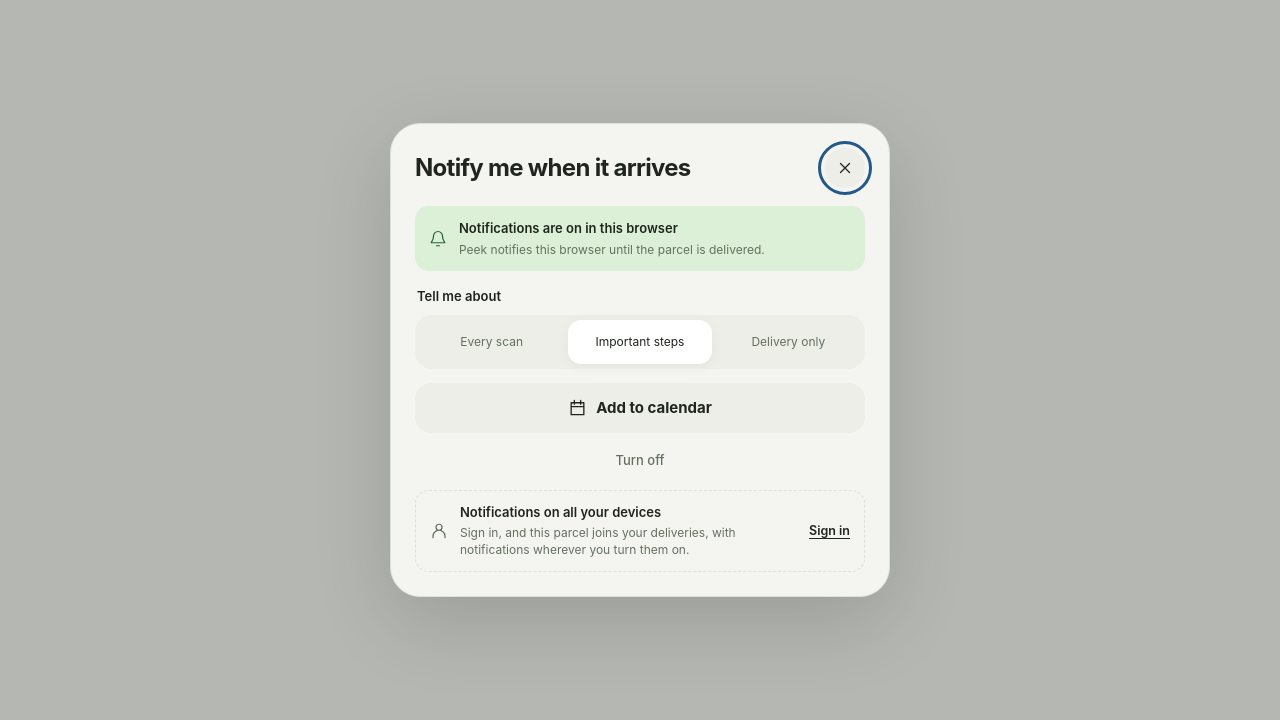
the Notify me sheet › once on, changes what it announces at once, and turns off
Expected: the text "Notifications are on in this browser" is shown, [459, 220, 678, 236]
Click the button "Every scan": (492, 342) [420, 320, 563, 364]
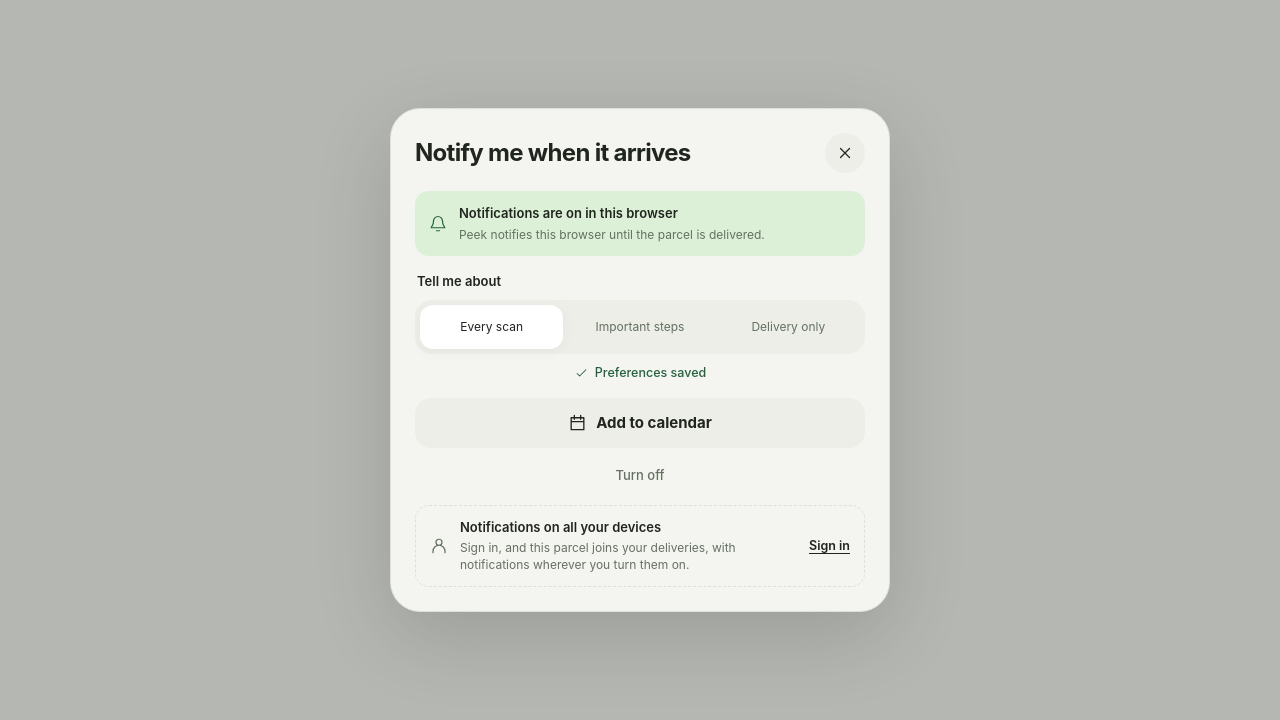
Now the message reads "Preferences saved", box [595, 366, 706, 380]
Click the button "Delivery only": (788, 327) [717, 305, 860, 349]
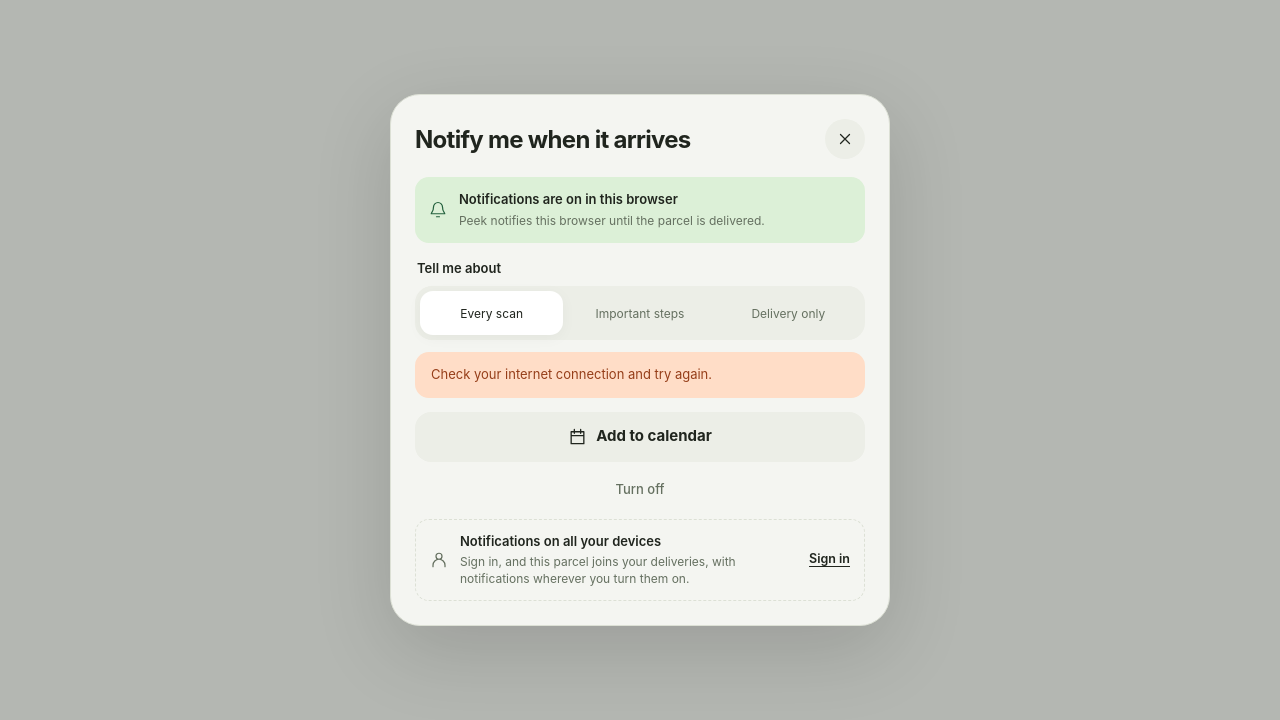
Now the message shows "connection", box [431, 366, 712, 382]
Click the button "Turn off": (640, 490) [415, 468, 865, 512]
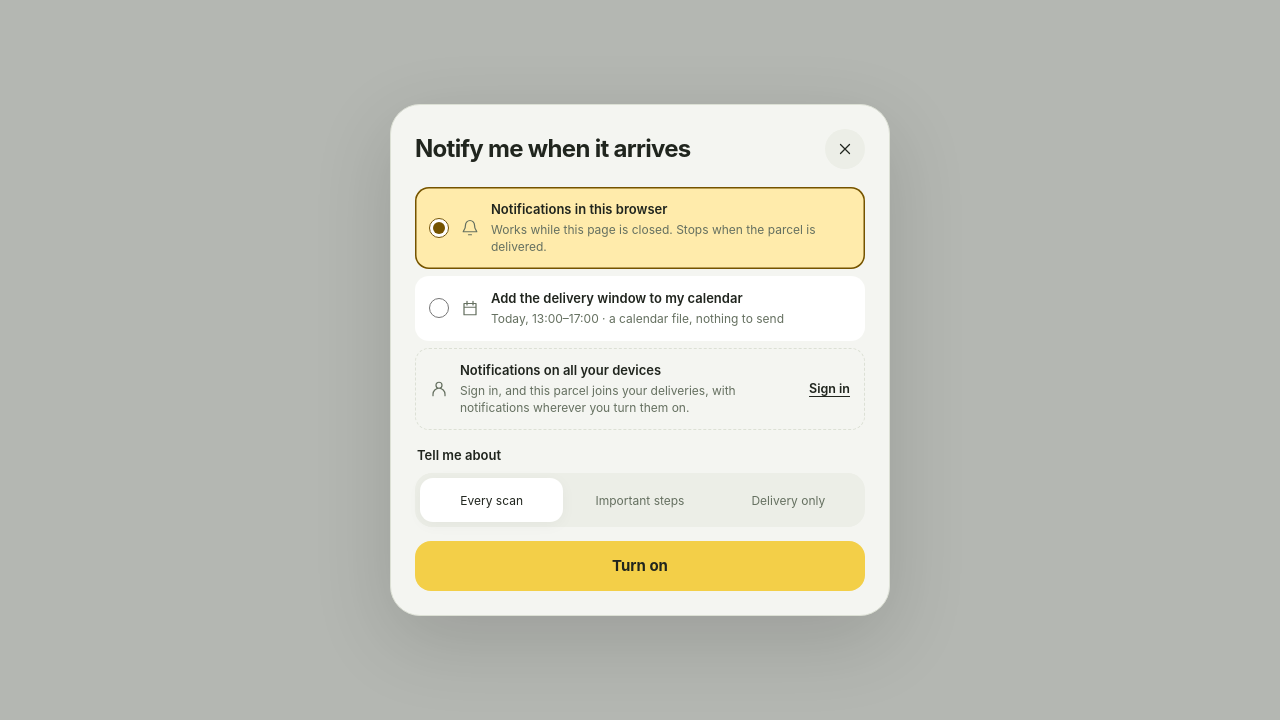
Now the button "Turn on" is shown, box [415, 542, 865, 592]
